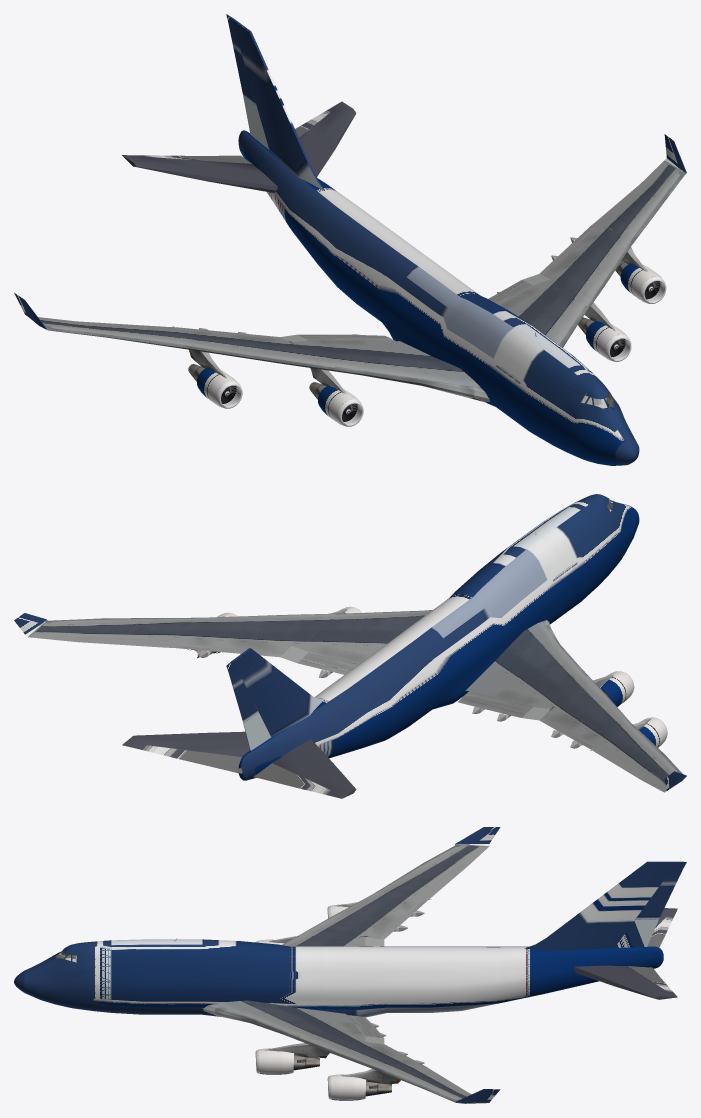
3 renders of one model, top to bottom at view 1: azimuth 30°, elevation 25°; view 2: azimuth 150°, elevation 25°; view 3: azimuth 270°, elevation 25°, orthographic. The views are drawn at different scales.
Visible parts, largest first — view 1: engine_reverser, speedbrake_right.6, flap_right_h.4, engine_chrome, engine_nozzle, eng.4_2; view 2: engine_reverser, speedbrake_right.6, flap_right_h.4; view 3: engine_reverser, speedbrake_right.6, flap_right_h.4, eng.4_2, engine_nozzle.
Part boxes in pixels (<box>): engine_reverser: <box>14,14,686,465</box>; speedbrake_right.6: <box>38,160,686,401</box>; flap_right_h.4: <box>122,101,577,334</box>; engine_chrome: <box>46,158,682,426</box>; engine_nozzle: <box>188,260,660,422</box>; eng.4_2: <box>173,247,647,393</box>; engine_reverser: <box>14,494,686,790</box>; speedbrake_right.6: <box>28,610,682,792</box>; flap_right_h.4: <box>122,650,582,798</box>; engine_reverser: <box>14,827,686,1102</box>; speedbrake_right.6: <box>202,844,489,1102</box>; flap_right_h.4: <box>353,908,677,1064</box>; eng.4_2: <box>264,899,431,1083</box>; engine_nozzle: <box>293,1053,391,1096</box>.
Bounding box in the file's own units: 65.42 × 18.35 × 70.94.
Materials: 12 (8 with a texture image).
